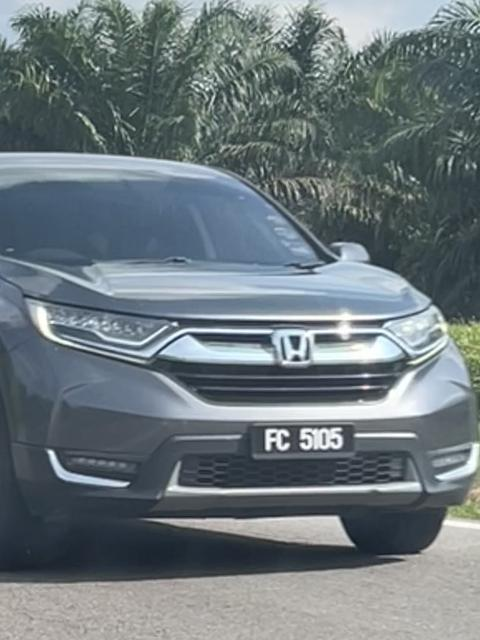FC5105: (249, 423, 358, 462)
License_Plate: (249, 423, 358, 462)
car: (2, 144, 473, 582)
